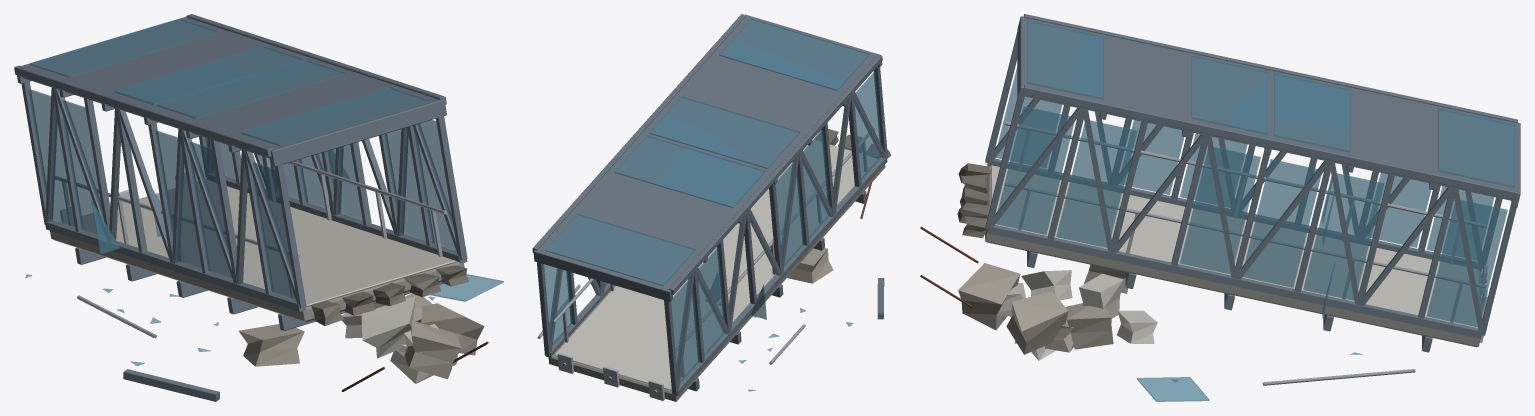
Rendered from DESTROY_18.obj.
3 views of the same model, side by side, from view 1: azimuth 30°, elevation 25°; view 2: azimuth 150°, elevation 25°; view 3: azimuth 270°, elevation 25° (orthographic). The views are drawn at different scales.
Parts seen in each view (by area): view 1: DESTROY_18__roof_frame, DESTROY_18__truss_L, DESTROY_18__roof_glazing, DESTROY_18__deck_finish, DESTROY_18__glazing_L, DESTROY_18__truss_R, DESTROY_18__rubble, DESTROY_18__glazing_R, DESTROY_18__roof_ribs, DESTROY_18__roof_edge_bent, DESTROY_18__deck, DESTROY_18__deck_teeth (+6 smaller); view 2: DESTROY_18__roof_frame, DESTROY_18__roof_glazing, DESTROY_18__deck_finish, DESTROY_18__truss_L, DESTROY_18__glazing_L, DESTROY_18__roof_edge_bent, DESTROY_18__roof_ribs, DESTROY_18__truss_R, DESTROY_18__deck, DESTROY_18__glazing_R, DESTROY_18__rubble, DESTROY_18__handrail_L (+5 smaller); view 3: DESTROY_18__glazing_R, DESTROY_18__roof_frame, DESTROY_18__truss_R, DESTROY_18__deck_finish, DESTROY_18__roof_glazing, DESTROY_18__rubble, DESTROY_18__glazing_L, DESTROY_18__truss_L, DESTROY_18__roof_edge_bent, DESTROY_18__deck, DESTROY_18__roof_ribs, DESTROY_18__handrail_L (+5 smaller).
Boxes of the visible parts, x1=… form: DESTROY_18__roof_frame: x1=23, y1=17, x2=438, y2=149; DESTROY_18__truss_L: x1=21, y1=77, x2=306, y2=311; DESTROY_18__roof_glazing: x1=30, y1=18, x2=429, y2=146; DESTROY_18__deck_finish: x1=61, y1=179, x2=455, y2=306; DESTROY_18__glazing_L: x1=28, y1=89, x2=295, y2=299; DESTROY_18__truss_R: x1=199, y1=116, x2=467, y2=263; DESTROY_18__rubble: x1=238, y1=293, x2=484, y2=383; DESTROY_18__glazing_R: x1=205, y1=120, x2=456, y2=251; DESTROY_18__roof_ribs: x1=17, y1=16, x2=446, y2=166; DESTROY_18__roof_edge_bent: x1=14, y1=14, x2=446, y2=157; DESTROY_18__deck: x1=50, y1=231, x2=464, y2=322; DESTROY_18__deck_teeth: x1=311, y1=265, x2=469, y2=325; DESTROY_18__roof_frame: x1=538, y1=17, x2=876, y2=288; DESTROY_18__roof_glazing: x1=545, y1=18, x2=869, y2=286; DESTROY_18__deck_finish: x1=554, y1=139, x2=877, y2=390; DESTROY_18__truss_L: x1=664, y1=67, x2=887, y2=395; DESTROY_18__glazing_L: x1=671, y1=71, x2=881, y2=383; DESTROY_18__roof_edge_bent: x1=532, y1=14, x2=882, y2=294; DESTROY_18__roof_ribs: x1=533, y1=14, x2=882, y2=301; DESTROY_18__truss_R: x1=537, y1=262, x2=614, y2=357; DESTROY_18__deck: x1=548, y1=165, x2=885, y2=401; DESTROY_18__glazing_R: x1=544, y1=264, x2=608, y2=345; DESTROY_18__rubble: x1=787, y1=248, x2=833, y2=283; DESTROY_18__handrail_L: x1=668, y1=128, x2=874, y2=376; DESTROY_18__glazing_R: x1=996, y1=106, x2=1507, y2=327; DESTROY_18__roof_frame: x1=1025, y1=18, x2=1516, y2=190; DESTROY_18__truss_R: x1=985, y1=95, x2=1516, y2=338; DESTROY_18__deck_finish: x1=991, y1=165, x2=1478, y2=327; DESTROY_18__roof_glazing: x1=1027, y1=20, x2=1514, y2=187; DESTROY_18__rubble: x1=958, y1=263, x2=1157, y2=360; DESTROY_18__glazing_L: x1=995, y1=67, x2=1494, y2=260; DESTROY_18__truss_L: x1=985, y1=32, x2=1502, y2=270; DESTROY_18__roof_edge_bent: x1=1022, y1=14, x2=1517, y2=199; DESTROY_18__deck: x1=985, y1=165, x2=1480, y2=347; DESTROY_18__roof_ribs: x1=1017, y1=16, x2=1520, y2=207; DESTROY_18__handrail_L: x1=1004, y1=121, x2=1486, y2=264.
Bounding box in the file's own units: 6.58 × 4.73 × 9.48.
